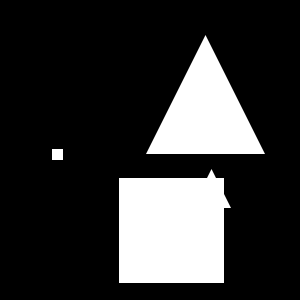circle: (119, 178, 224, 283), (52, 149, 63, 160)
triangle: (146, 35, 265, 154), (192, 169, 231, 208)
